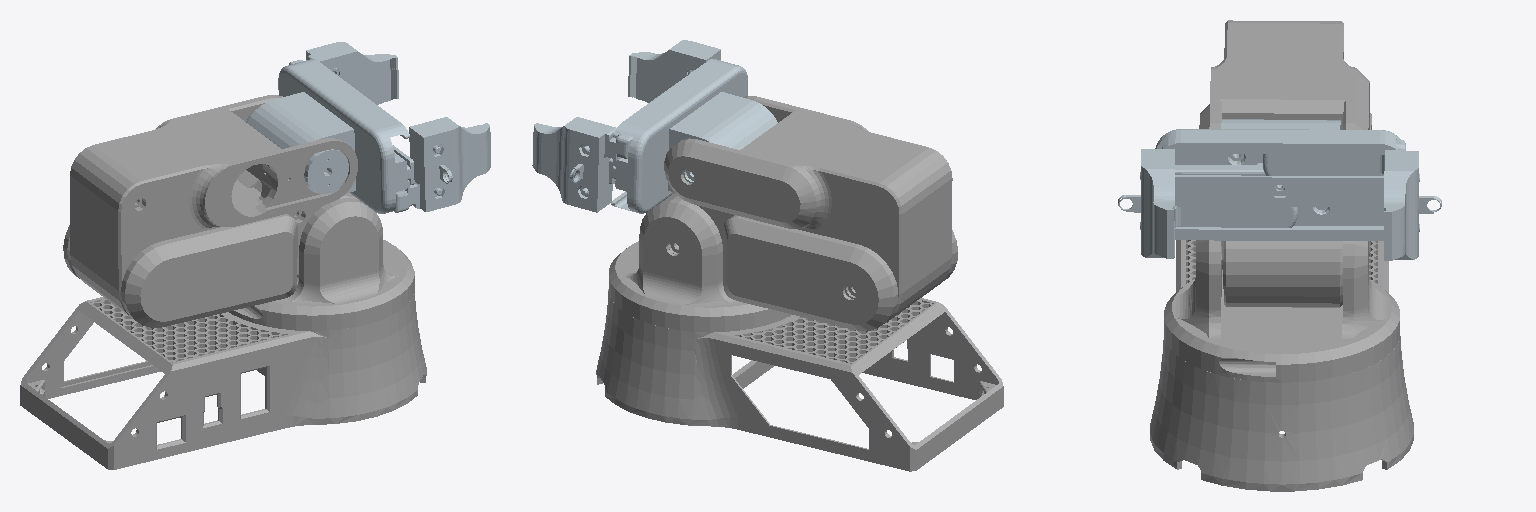
The robot description file, URDF, robot "ros":
<?xml version="1.0" encoding="utf-8"?>
<!-- This URDF was automatically created by SolidWorks to URDF Exporter! Originally created by Stephen Brawner (brawner@gmail.com) 
     Commit Version: 1.6.0-4-g7f85cfe  Build Version: 1.6.7995.38578
     For more information, please see http://wiki.ros.org/sw_urdf_exporter -->
<robot
  name="ros">
  <link
    name="base_link">
    <inertial>
      <origin
        xyz="-0.0119706314721355 -0.00191511867991667 0.0269109810347072"
        rpy="0 0 0" />
      <mass
        value="0.207333995156467" />
      <inertia
        ixx="0.000243532408098101"
        ixy="-1.66516260572353E-05"
        ixz="8.71165793342081E-07"
        iyy="0.000401905113848341"
        iyz="5.00374730366925E-06"
        izz="0.00056752963416904" />
    </inertial>
    <visual>
      <origin
        xyz="0 0 0"
        rpy="0 0 0" />
      <geometry>
        <mesh
          filename="package://ros/meshes/base_link.STL" />
      </geometry>
      <material
        name="">
        <color
          rgba="0.698039215686274 0.698039215686274 0.698039215686274 1" />
      </material>
    </visual>
    <collision>
      <origin
        xyz="0 0 0"
        rpy="0 0 0" />
      <geometry>
        <mesh
          filename="package://ros/meshes/base_link.STL" />
      </geometry>
    </collision>
  </link>
  <link
    name="shoulder_link">
    <inertial>
      <origin
        xyz="-0.000639020221566255 -0.00221268013319542 0.0138447847140262"
        rpy="0 0 0" />
      <mass
        value="0.0563566428512417" />
      <inertia
        ixx="1.62423302062928E-05"
        ixy="1.81851941552224E-07"
        ixz="-8.59445809561107E-08"
        iyy="3.38539297343194E-05"
        iyz="7.80567427296733E-08"
        izz="3.08941911733896E-05" />
    </inertial>
    <visual>
      <origin
        xyz="0 0 0"
        rpy="0 0 0" />
      <geometry>
        <mesh
          filename="package://ros/meshes/shoulder_link.STL" />
      </geometry>
      <material
        name="">
        <color
          rgba="0.698039215686274 0.698039215686274 0.698039215686274 1" />
      </material>
    </visual>
    <collision>
      <origin
        xyz="0 0 0"
        rpy="0 0 0" />
      <geometry>
        <mesh
          filename="package://ros/meshes/shoulder_link.STL" />
      </geometry>
    </collision>
  </link>
  <joint
    name="shoulder"
    type="revolute">
    <origin
      xyz="0 0 0.043"
      rpy="0 0 0" />
    <parent
      link="base_link" />
    <child
      link="shoulder_link" />
    <axis
      xyz="0 0 -1" />
    <limit
      lower="-1.57"
      upper="1.57"
      effort="7"
      velocity="100" />
  </joint>
  <link
    name="elbow_link">
    <inertial>
      <origin
        xyz="-0.0445855896233995 -0.0365571155750264 -0.000253561026126059"
        rpy="0 0 0" />
      <mass
        value="0.0763033017187473" />
      <inertia
        ixx="1.80485917861405E-05"
        ixy="-1.49220878107006E-06"
        ixz="-4.39899920280866E-07"
        iyy="9.04948491469838E-05"
        iyz="1.98022509869592E-08"
        izz="8.34290948055152E-05" />
    </inertial>
    <visual>
      <origin
        xyz="0 0 0"
        rpy="0 0 0" />
      <geometry>
        <mesh
          filename="package://ros/meshes/elbow_link.STL" />
      </geometry>
      <material
        name="">
        <color
          rgba="0.698039215686274 0.698039215686274 0.698039215686274 1" />
      </material>
    </visual>
    <collision>
      <origin
        xyz="0 0 0"
        rpy="0 0 0" />
      <geometry>
        <mesh
          filename="package://ros/meshes/elbow_link.STL" />
      </geometry>
    </collision>
  </link>
  <joint
    name="elbow"
    type="revolute">
    <origin
      xyz="0.00030753 0.032499 0.0325"
      rpy="0 0 0" />
    <parent
      link="shoulder_link" />
    <child
      link="elbow_link" />
    <axis
      xyz="0.0091818 0.99996 0" />
    <limit
      lower="-1.57"
      upper="1.57"
      effort="7"
      velocity="100" />
  </joint>
  <link
    name="wrist_link">
    <inertial>
      <origin
        xyz="0.0217856217876145 -0.0318188170084459 0.026638033909097"
        rpy="0 0 0" />
      <mass
        value="0.0654092355348391" />
      <inertia
        ixx="3.05616966043891E-05"
        ixy="-6.89622438236125E-07"
        ixz="-1.28747139515531E-05"
        iyy="8.30233360121273E-05"
        iyz="6.13486908938219E-08"
        izz="6.092759122282E-05" />
    </inertial>
    <visual>
      <origin
        xyz="0 0 0"
        rpy="0 0 0" />
      <geometry>
        <mesh
          filename="package://ros/meshes/wrist_link.STL" />
      </geometry>
      <material
        name="">
        <color
          rgba="0.698039215686274 0.698039215686274 0.698039215686274 1" />
      </material>
    </visual>
    <collision>
      <origin
        xyz="0 0 0"
        rpy="0 0 0" />
      <geometry>
        <mesh
          filename="package://ros/meshes/wrist_link.STL" />
      </geometry>
    </collision>
  </link>
  <joint
    name="wrist"
    type="revolute">
    <origin
      xyz="-0.089989 0.0013263 -0.00065113"
      rpy="0 0 0" />
    <parent
      link="elbow_link" />
    <child
      link="wrist_link" />
    <axis
      xyz="0.0091818 0.99996 0" />
    <limit
      lower="-1.57"
      upper="1.57"
      effort="7"
      velocity="100" />
  </joint>
  <link
    name="arm_link">
    <inertial>
      <origin
        xyz="0.0239722994937728 -0.03302776033887 0.000872939224965563"
        rpy="0 0 0" />
      <mass
        value="0.0937307858723876" />
      <inertia
        ixx="4.68784104332079E-05"
        ixy="-7.6546734565155E-07"
        ixz="1.53121871245673E-07"
        iyy="1.45097565093586E-05"
        iyz="1.05512529017752E-06"
        izz="4.22627250595636E-05" />
    </inertial>
    <visual>
      <origin
        xyz="0 0 0"
        rpy="0 0 0" />
      <geometry>
        <mesh
          filename="package://ros/meshes/arm_link.STL" />
      </geometry>
      <material
        name="">
        <color
          rgba="0.76078431372549 0.807843137254902 0.83921568627451 1" />
      </material>
    </visual>
    <collision>
      <origin
        xyz="0 0 0"
        rpy="0 0 0" />
      <geometry>
        <mesh
          filename="package://ros/meshes/arm_link.STL" />
      </geometry>
    </collision>
  </link>
  <joint
    name="arm"
    type="revolute">
    <origin
      xyz="0.082112 -0.001254 0.036827"
      rpy="0 0 0" />
    <parent
      link="wrist_link" />
    <child
      link="arm_link" />
    <axis
      xyz="0.0091818 0.99996 0" />
    <limit
      lower="-1.57"
      upper="1.57"
      effort="7"
      velocity="100" />
  </joint>
  <link
    name="end_link">
    <inertial>
      <origin
        xyz="-0.03151634044226 0.000262876989696625 -0.000233659250883145"
        rpy="0 0 0" />
      <mass
        value="0.0937307858723876" />
      <inertia
        ixx="4.68784104332079E-05"
        ixy="-7.65467345651551E-07"
        ixz="1.53121871245673E-07"
        iyy="1.45097565093586E-05"
        iyz="1.05512529017752E-06"
        izz="4.22627250595636E-05" />
    </inertial>
    <visual>
      <origin
        xyz="0 0 0"
        rpy="0 0 0" />
      <geometry>
        <mesh
          filename="package://ros/meshes/end_link.STL" />
      </geometry>
      <material
        name="">
        <color
          rgba="0.76078431372549 0.807843137254902 0.83921568627451 1" />
      </material>
    </visual>
    <collision>
      <origin
        xyz="0 0 0"
        rpy="0 0 0" />
      <geometry>
        <mesh
          filename="package://ros/meshes/end_link.STL" />
      </geometry>
    </collision>
  </link>
  <joint
    name="end"
    type="fixed">
    <origin
      xyz="0.055489 -0.033291 0.0011066"
      rpy="0 0 0" />
    <parent
      link="arm_link" />
    <child
      link="end_link" />
    <axis
      xyz="0 0 0" />
  </joint>
</robot>

--- Facts derived from the render (not from the file) ---
The picture shows the robot from 3 angles, left to right: view 1: azimuth 30°, elevation 25°; view 2: azimuth 150°, elevation 25°; view 3: azimuth 270°, elevation 25°; orthographic projection.
Robot: ros — 6 links, 5 joints (4 revolute, 1 fixed); root link base_link; default pose: every joint at zero.
Links seen in each view (by area): view 1: base_link, wrist_link, elbow_link, shoulder_link, arm_link, end_link; view 2: base_link, wrist_link, arm_link, elbow_link, shoulder_link, end_link; view 3: base_link, end_link, shoulder_link, wrist_link, arm_link, elbow_link.
Link boxes in pixels (<box>): base_link: <box>20,292,426,469</box>; wrist_link: <box>70,95,357,316</box>; elbow_link: <box>63,193,357,327</box>; shoulder_link: <box>229,198,414,330</box>; arm_link: <box>246,42,489,213</box>; end_link: <box>292,51,490,213</box>; base_link: <box>596,289,1003,471</box>; wrist_link: <box>664,96,952,319</box>; arm_link: <box>532,40,777,213</box>; elbow_link: <box>665,193,957,330</box>; shoulder_link: <box>609,198,791,331</box>; end_link: <box>533,40,740,199</box>; base_link: <box>1150,240,1413,491</box>; end_link: <box>1118,130,1440,260</box>; shoulder_link: <box>1164,240,1399,382</box>; wrist_link: <box>1209,20,1369,129</box>; arm_link: <box>1120,119,1441,260</box>; elbow_link: <box>1199,104,1371,307</box>.
Size in the robot's own frame: 0.1921 by 0.1227 by 0.1328 metres.
Meshes: 6 distinct files referenced, 6 mesh visuals loaded (6 binary STL).
